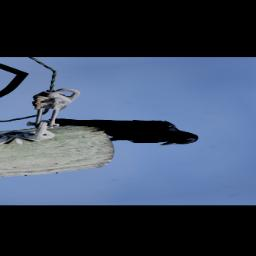Crow: (46, 107, 203, 155)
